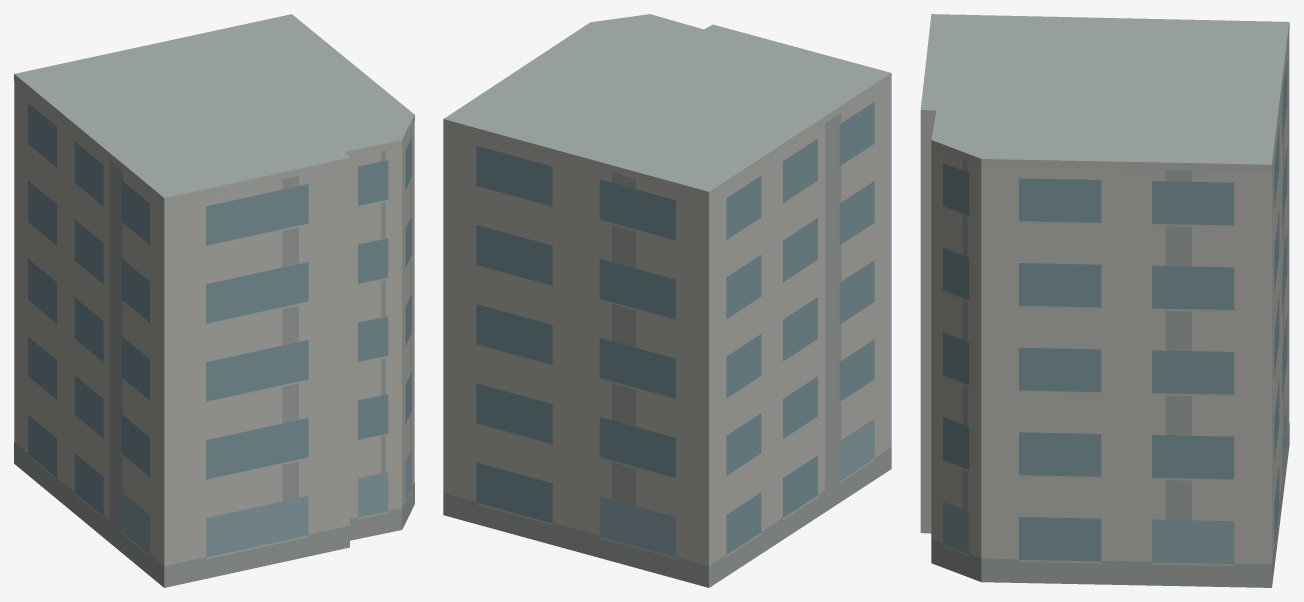
File: survey-upis-32782618.glb
3 renders of one model, left to right at view 1: azimuth 30°, elevation 25°; view 2: azimuth 150°, elevation 25°; view 3: azimuth 270°, elevation 25°, orthographic. The views are drawn at different scales.
Visible parts, largest first — view 1: survey-upis-32782618.tmp; view 2: survey-upis-32782618.tmp; view 3: survey-upis-32782618.tmp.
Boxes of the visible parts, x1,y1,x2,y2 form: survey-upis-32782618.tmp: (14,14,414,587); survey-upis-32782618.tmp: (443,14,891,587); survey-upis-32782618.tmp: (920,14,1289,587).
Size of the model in its own units: 10.16 by 13.3 by 10.51.
